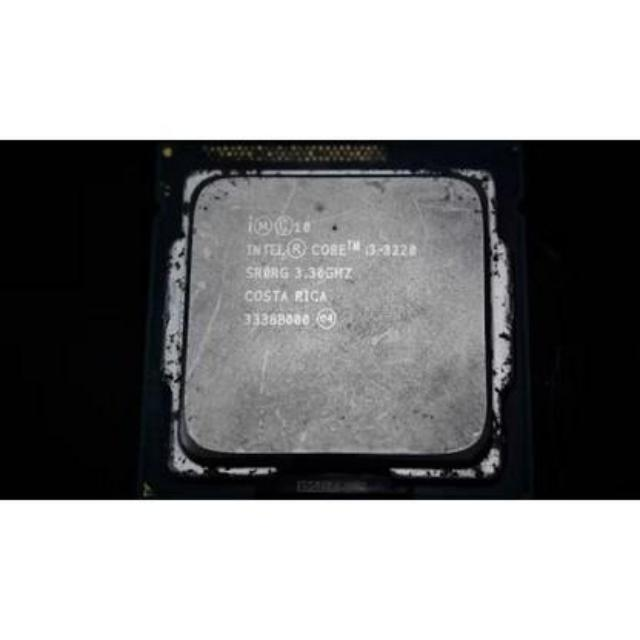CPU: (174, 164, 502, 478)
